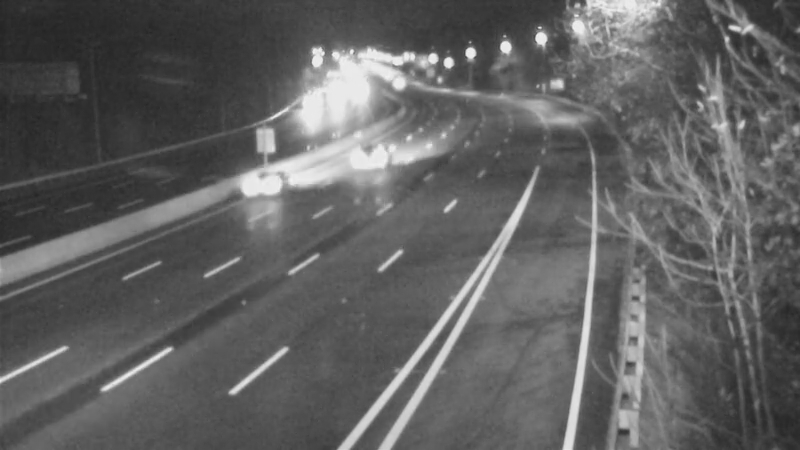vehicle: (329, 118, 409, 198), (220, 143, 300, 223), (370, 58, 420, 108), (283, 84, 333, 134)
